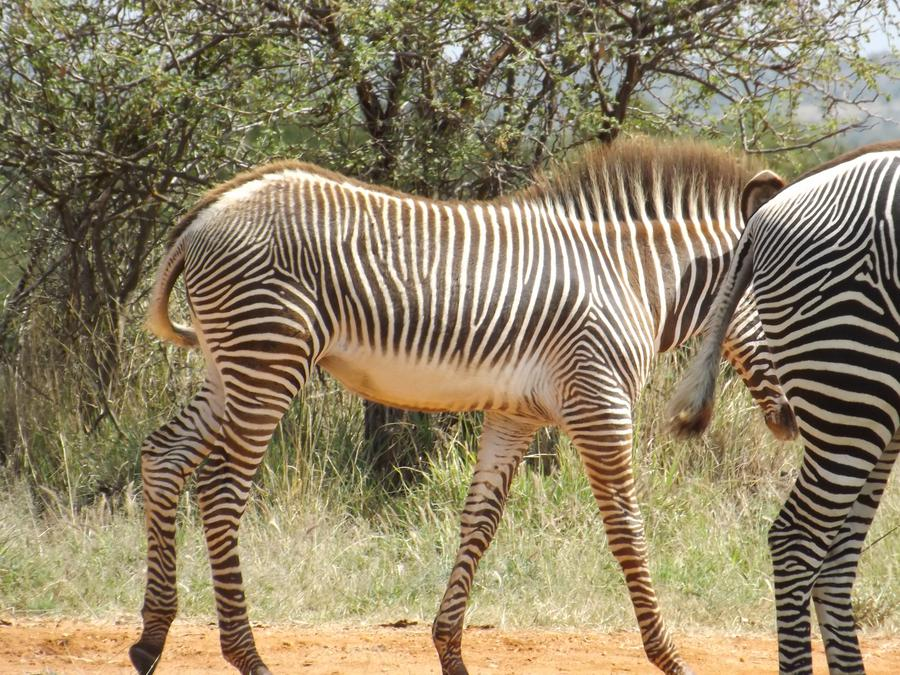zebra_grevys: (161, 147, 639, 408)
